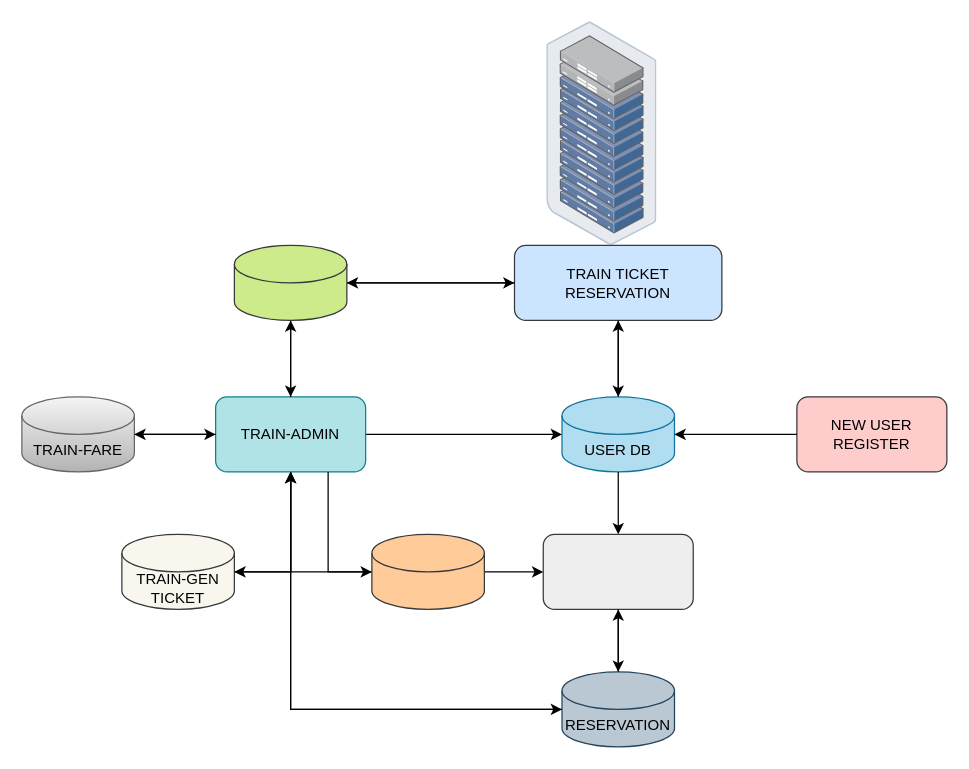
Image size: 969x769. Some labels were removed from this diagram. Here are the shapes that lost their labels. From the top down, the box of each, then its label:
(233, 244, 347, 320): ADMIN DB
(371, 533, 484, 609): TRAINS
(542, 533, 693, 609): TRAIN-USER
